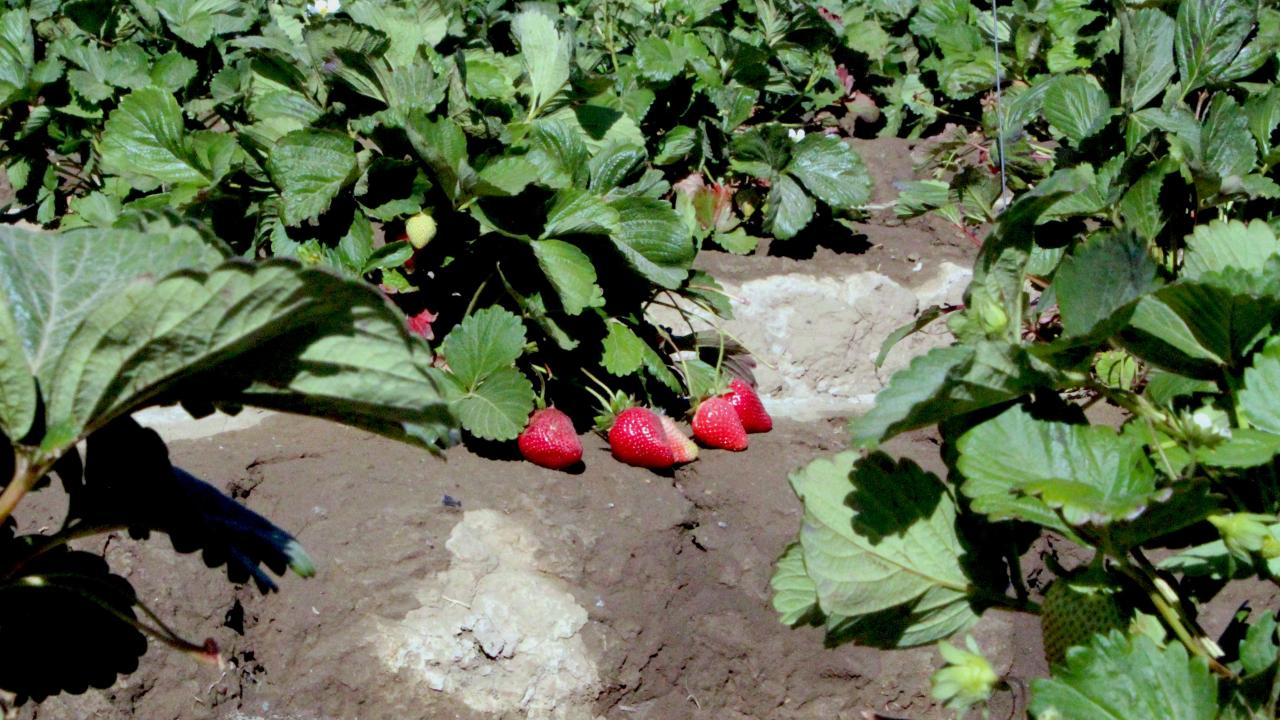ripe_strawberry: (607, 407, 678, 473), (519, 406, 585, 472), (690, 394, 754, 455), (715, 377, 777, 435)
unripe_strawberry: (1040, 567, 1136, 679), (404, 213, 438, 253)
